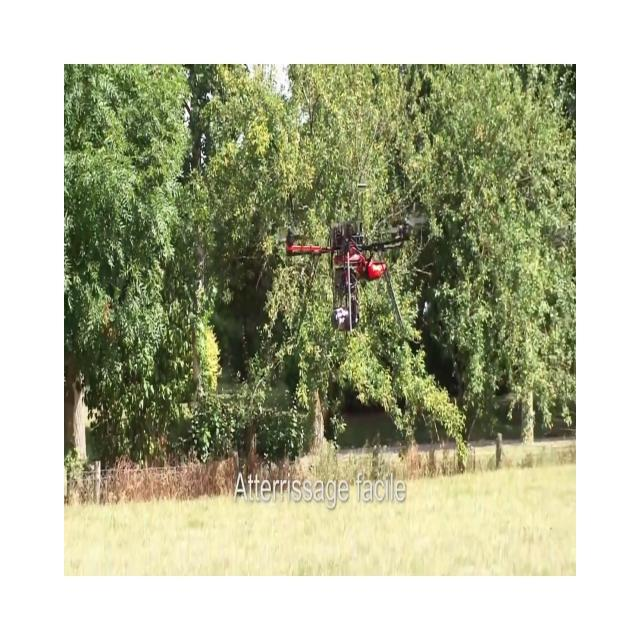drone: (284, 180, 428, 340)
